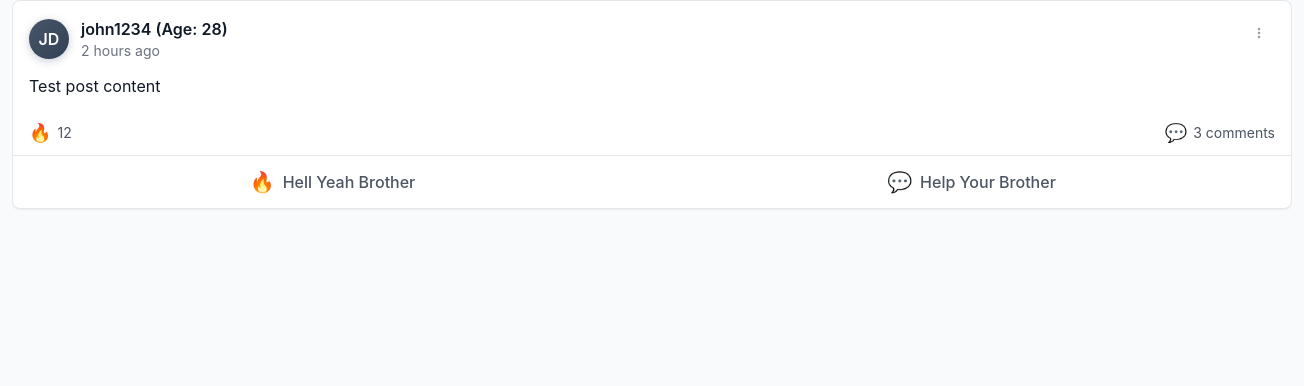
Test: Post Component › Comments Section › should submit comment via form submission
This screenshot has width=1304, height=386.
Click the button labelled "💬 Help Your Brother": (972, 182) [652,160,1291,204]
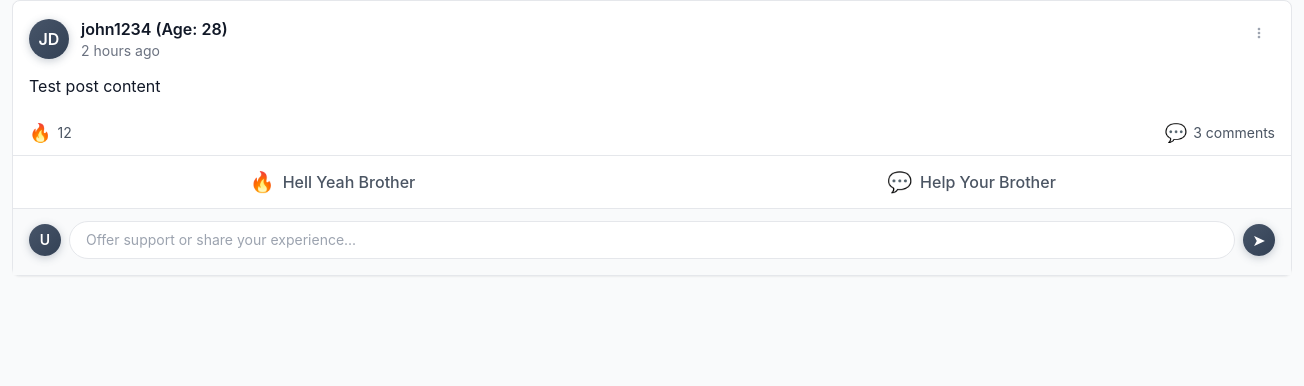
In the field named "write a comment": (652, 240) [69,221,1235,259], type "Test via form submit"
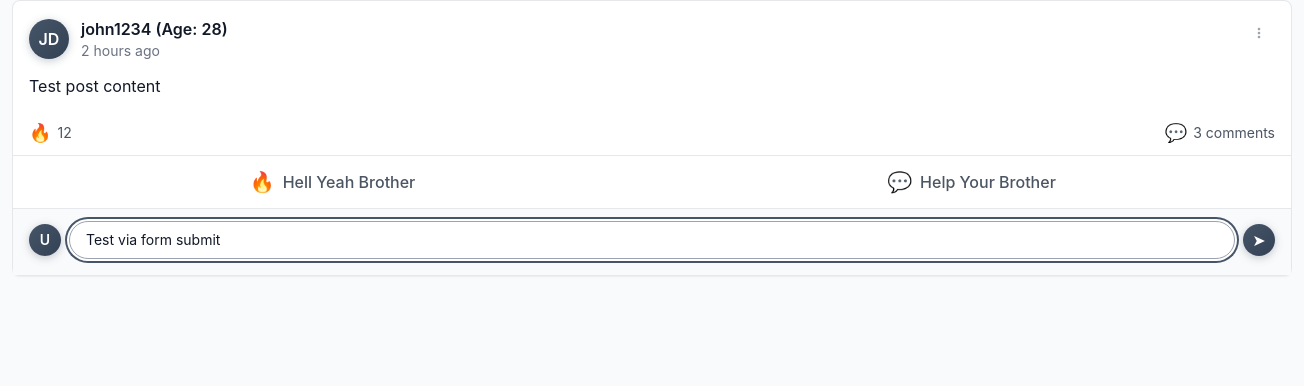
Submit the form named "write a comment", box [29,221,1275,259]
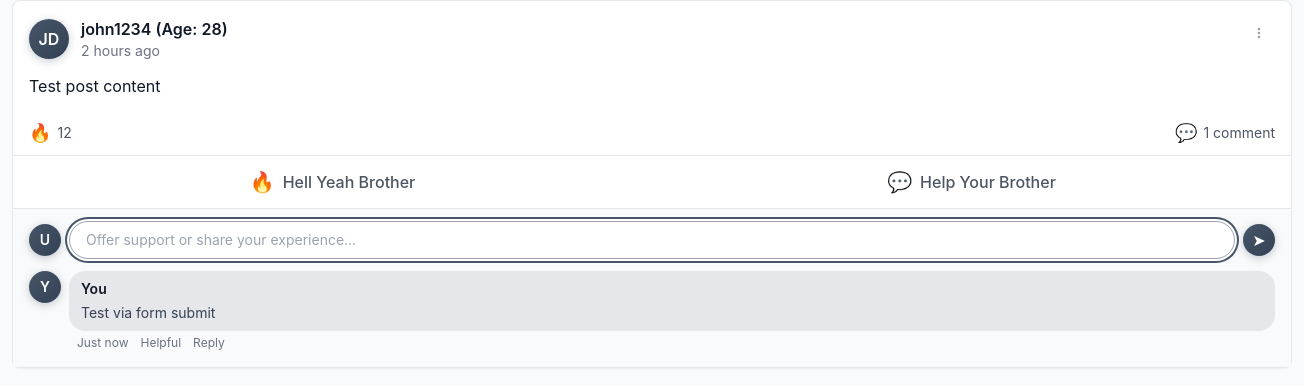
Expected: the text "Test via form submit" is shown, [81,304,215,321]
